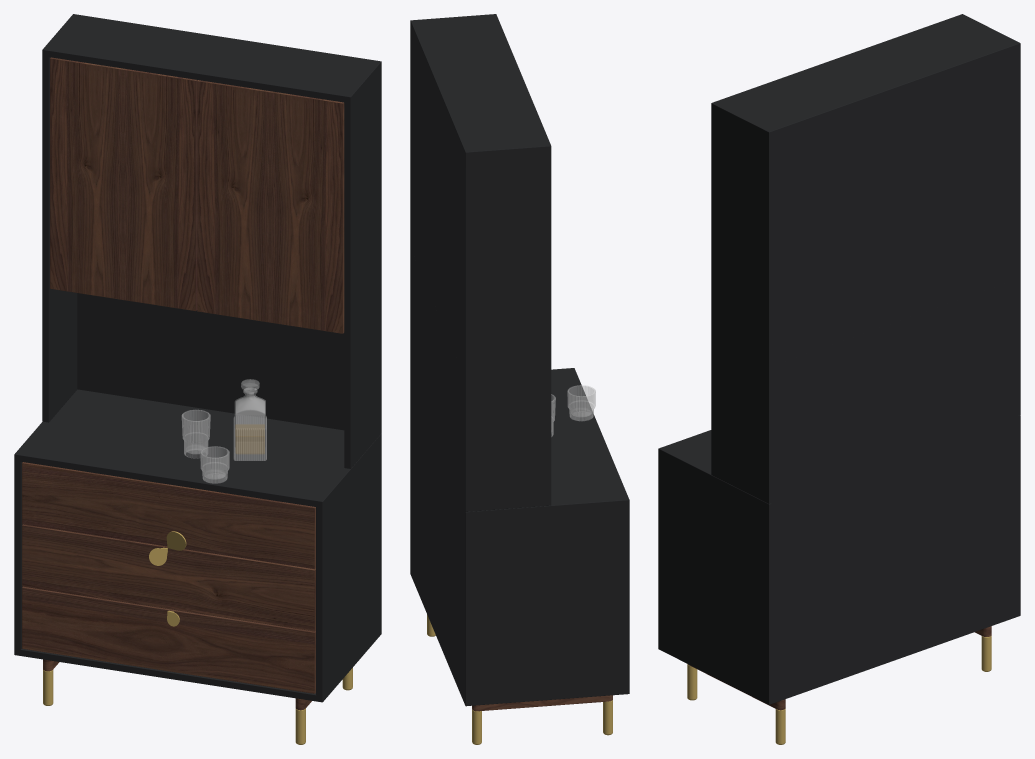
Rendered from Petals-High-Bar-3.glb.
3 views of the same model, side by side, from view 1: azimuth 30°, elevation 25°; view 2: azimuth 150°, elevation 25°; view 3: azimuth 270°, elevation 25° (orthographic). The views are drawn at different scales.
Parts seen in each view (by area): view 1: cabinet - lower, cabinet - upper, door - left, door - right, back - mid, drawer - bot, drawer - top, drawer - mid, GlasswareWhiskeySet002_Decanter.001, GlasswareWhiskeySet002_HighballGlass.001, GlasswareWhiskeySet002_DoubleGlass.001; view 2: cabinet - upper, cabinet - lower, back - top, back - bot, back - mid, base, GlasswareWhiskeySet002_DoubleGlass.001; view 3: back - top, back - bot, cabinet - upper, back - mid, cabinet - lower.
Part boxes in pixels (x1=…): cabinet - lower: x1=14, y1=389, x2=381, y2=702; cabinet - upper: x1=42, y1=14, x2=381, y2=468; door - left: x1=50, y1=57, x2=197, y2=311; door - right: x1=197, y1=80, x2=344, y2=333; back - mid: x1=77, y1=293, x2=344, y2=430; drawer - bot: x1=22, y1=586, x2=315, y2=693; drawer - top: x1=22, y1=462, x2=315, y2=569; drawer - mid: x1=22, y1=524, x2=315, y2=631; GlasswareWhiskeySet002_Decanter.001: x1=233, y1=379, x2=266, y2=460; GlasswareWhiskeySet002_HighballGlass.001: x1=181, y1=410, x2=210, y2=458; GlasswareWhiskeySet002_DoubleGlass.001: x1=200, y1=446, x2=229, y2=483; cabinet - upper: x1=410, y1=14, x2=551, y2=511; cabinet - lower: x1=410, y1=368, x2=629, y2=706; back - top: x1=411, y1=25, x2=464, y2=377; back - bot: x1=411, y1=385, x2=464, y2=701; back - mid: x1=411, y1=249, x2=464, y2=513; base: x1=472, y1=695, x2=612, y2=711; GlasswareWhiskeySet002_DoubleGlass.001: x1=567, y1=385, x2=595, y2=420; back - top: x1=771, y1=47, x2=1018, y2=365; back - bot: x1=771, y1=419, x2=1018, y2=701; cabinet - upper: x1=711, y1=14, x2=1020, y2=503; back - mid: x1=771, y1=279, x2=1018, y2=506; cabinet - lower: x1=658, y1=415, x2=1020, y2=704.
Size of the model in its own units: 1.06 by 2.13 by 1.12.
6 materials, 4 textured.
